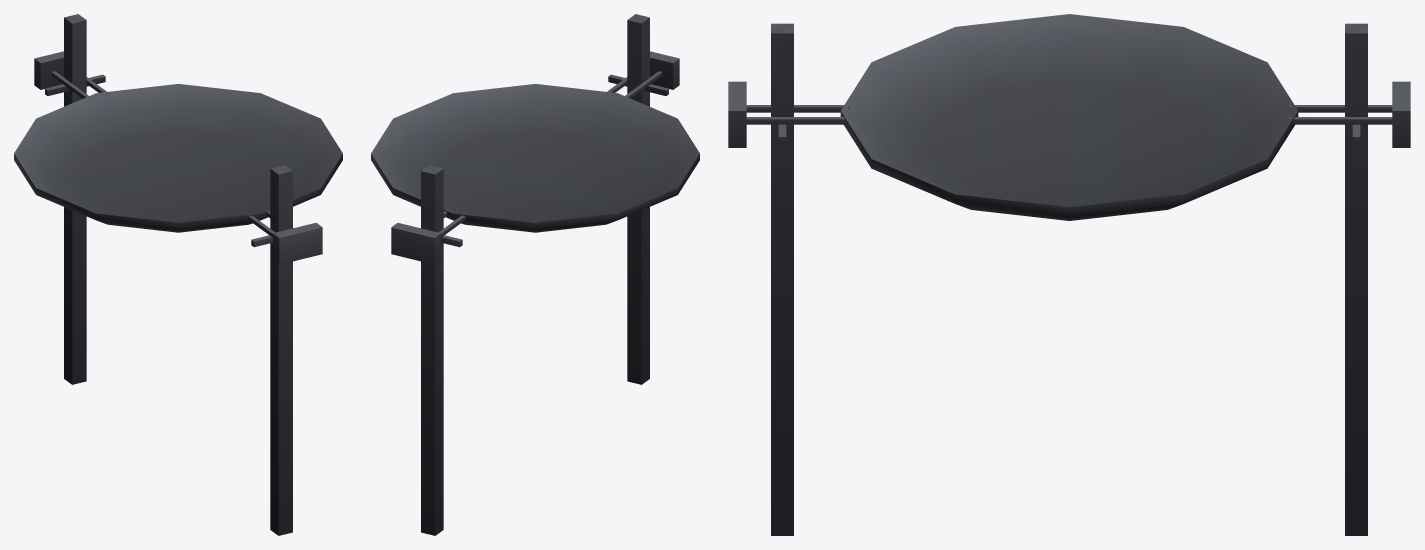
Rendered from Camp_Grill_1B.fbx.
3 views of the same model, side by side, from view 1: azimuth 30°, elevation 25°; view 2: azimuth 150°, elevation 25°; view 3: azimuth 270°, elevation 25° (orthographic). The views are drawn at different scales.
Visible parts, largest first — view 1: Camp_Grill_1B; view 2: Camp_Grill_1B; view 3: Camp_Grill_1B.
Part boxes in pixels (x1,y1,x2,y2): Camp_Grill_1B: (14, 14, 342, 535); Camp_Grill_1B: (371, 14, 699, 535); Camp_Grill_1B: (728, 14, 1410, 535).
Bounding box in the file's own units: 63.74 × 77.27 × 95.07.
